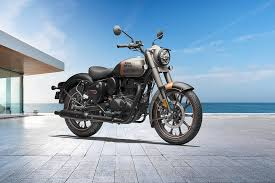motorcycle: (48, 25, 201, 144)
